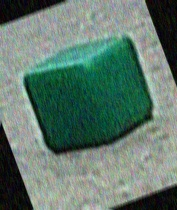green_cube: (15, 31, 164, 164)
